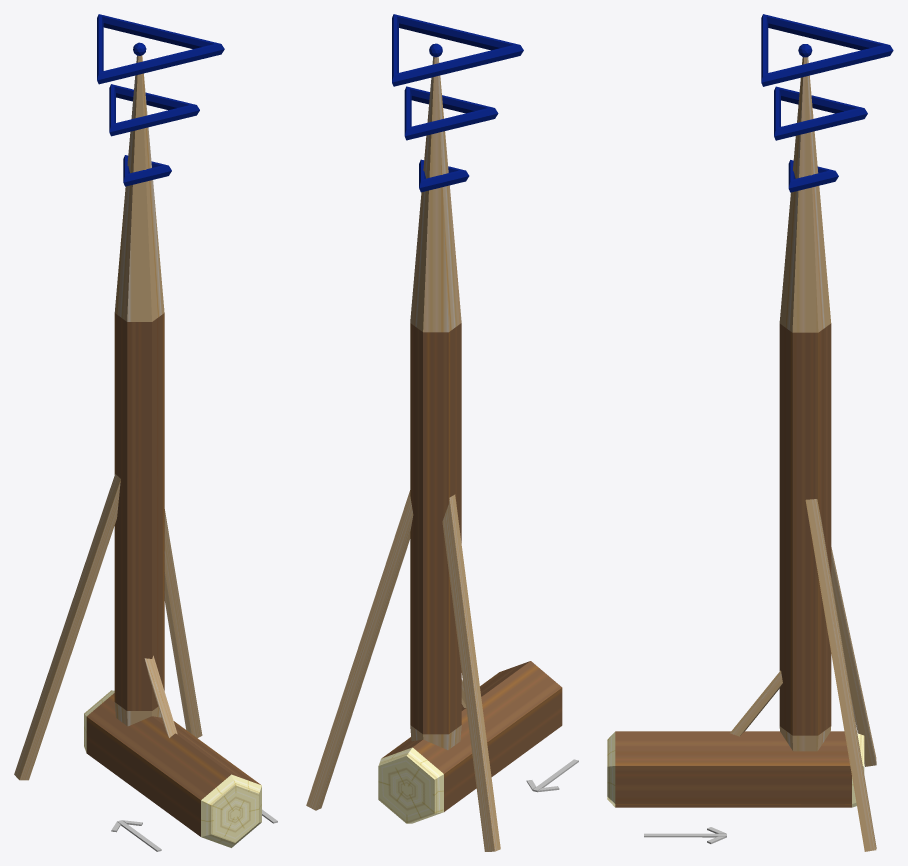
The model's file is TransmitterCrude.obj.
3 views of the same model, side by side, from view 1: azimuth 30°, elevation 25°; view 2: azimuth 150°, elevation 25°; view 3: azimuth 270°, elevation 25° (orthographic). The views are drawn at different scales.
Visible parts, largest first — view 1: Cylinder.001_Cylinder.002, Cylinder, Cube, Torus.003_Torus.005, Torus.004, SupportLeg2_Cylinder.001, Torus.005_Torus.003, Cube.001_Cube.008; view 2: Cylinder.001_Cylinder.002, Cylinder, Cube, Torus.003_Torus.005, Torus.004, Torus.005_Torus.003; view 3: Cylinder.001_Cylinder.002, Cylinder, Cube, Torus.003_Torus.005, Torus.004, SupportLeg2_Cylinder.001, Torus.005_Torus.003.
Part boxes in pixels (x1,y1,x2,y2): Cylinder.001_Cylinder.002: (114, 55, 164, 726); Cylinder: (84, 690, 261, 847); Cube: (14, 474, 202, 780); Torus.003_Torus.005: (97, 14, 224, 84); Torus.004: (109, 84, 199, 136); SupportLeg2_Cylinder.001: (144, 655, 177, 737); Torus.005_Torus.003: (123, 155, 171, 186); Cube.001_Cube.008: (111, 809, 277, 851); Cylinder.001_Cylinder.002: (410, 56, 461, 749); Cylinder: (378, 661, 562, 823); Cube: (306, 490, 500, 851); Torus.003_Torus.005: (392, 14, 523, 86); Torus.004: (404, 86, 498, 140); Torus.005_Torus.003: (419, 159, 469, 192); Cylinder.001_Cylinder.002: (779, 57, 831, 751); Cylinder: (607, 731, 864, 807); Cube: (805, 499, 876, 851); Torus.003_Torus.005: (761, 14, 893, 86); Torus.004: (774, 86, 867, 140); SupportLeg2_Cylinder.001: (730, 670, 782, 736); Torus.005_Torus.003: (788, 160, 838, 192).
Bounding box in the file's own units: 2.36 × 9.09 × 3.08.
5 materials, 3 textured.
